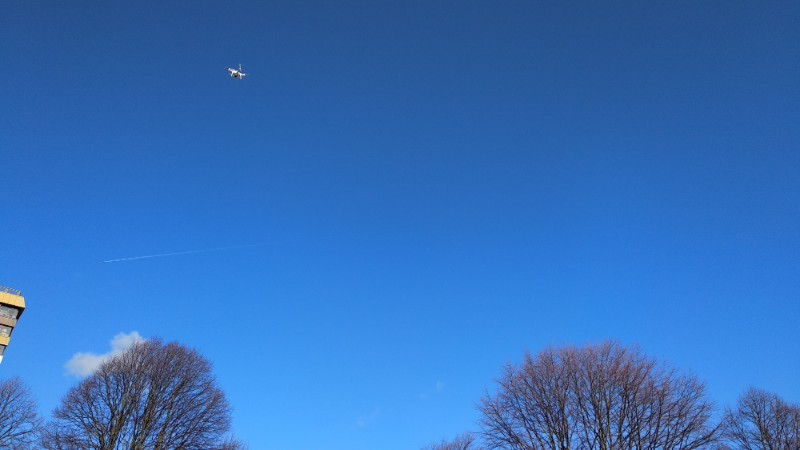drone: (227, 63, 247, 84)
